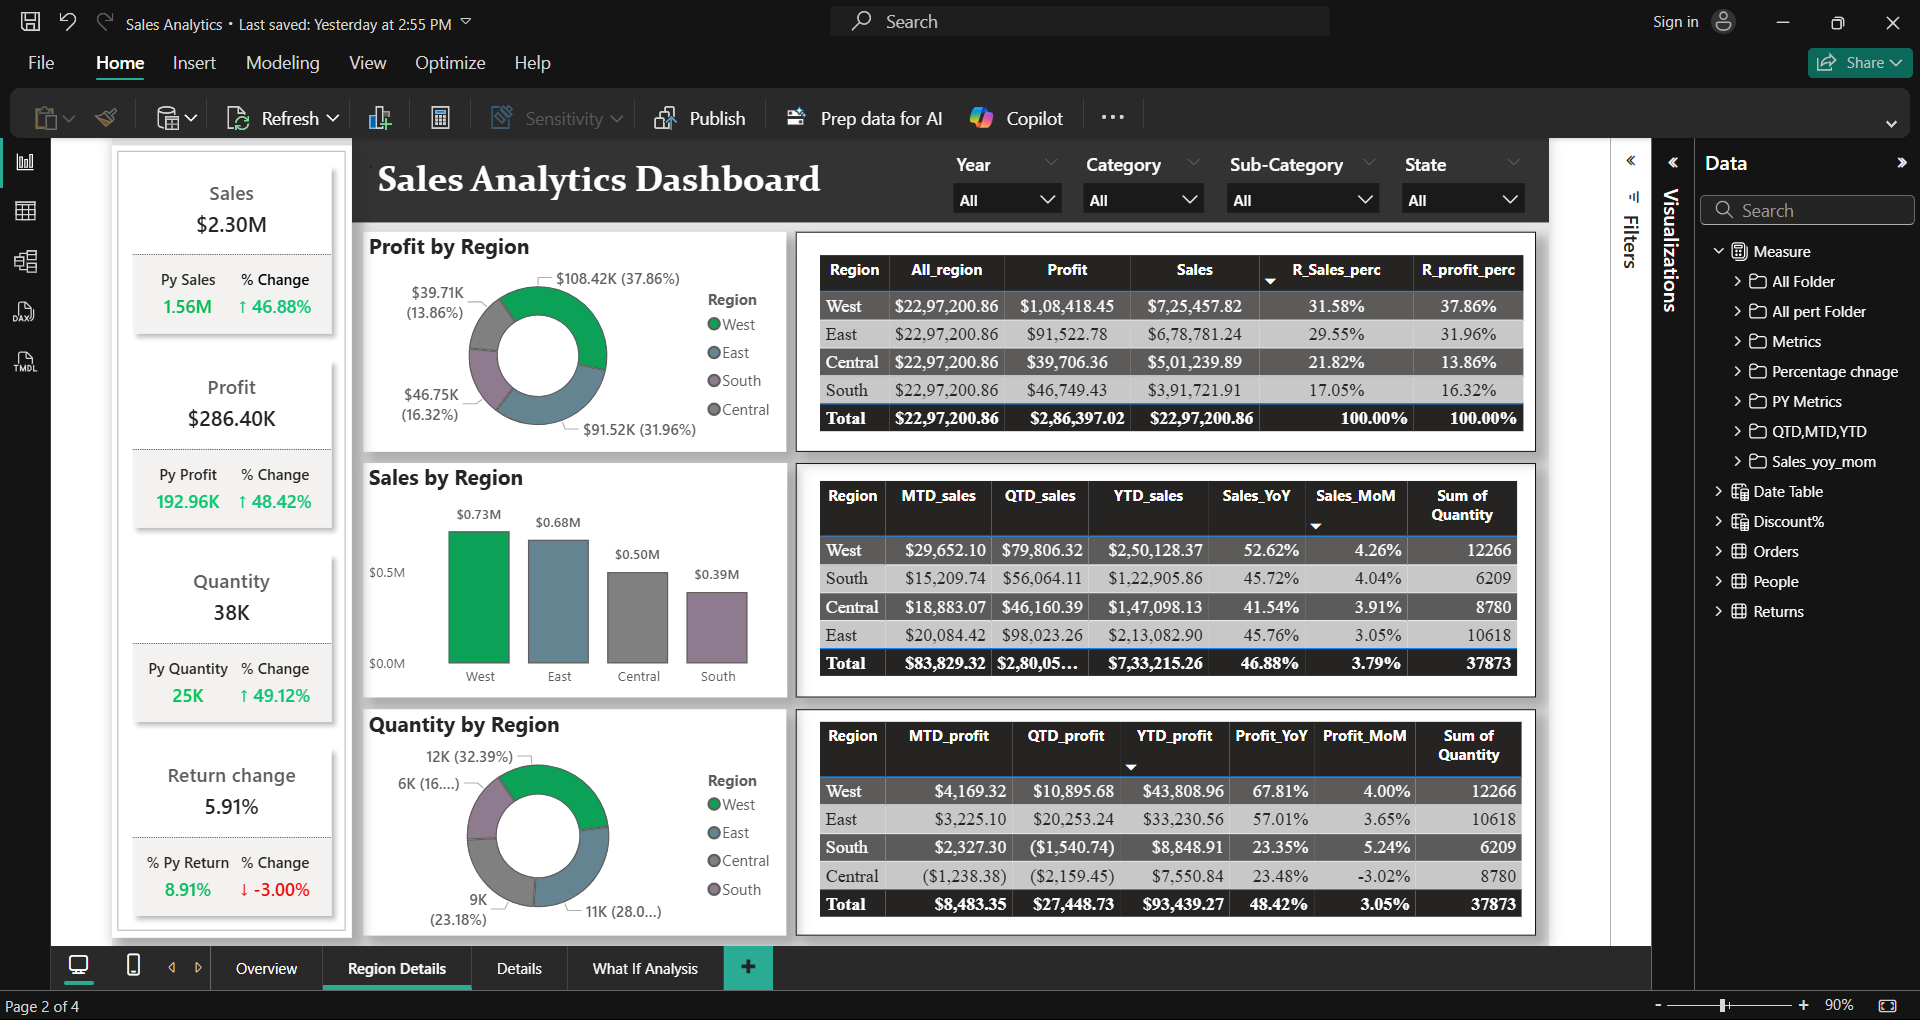

The page's visual inventory and layout, read from the dashboard file:
{"tool":"powerbi","page":{"name":"Region Details","canvas":[1280,720],"ordinal":1},"visuals":[{"type":"textbox","box":[213.5,0,1066.3,74.8],"z":1000},{"type":"donutChart","title":"Profit by Region","fields":{"Category":["People.Region"],"Y":["Measure.Profit"]},"box":[223.3,83.4,376.7,196.3],"z":2000},{"type":"tableEx","title":"Sales Details","fields":{"Values":["People.Region","Measure.mtd","Measure.qtd","Measure.ytd","Measure.yoy_growth","Measure.mom_growth","Sum(Orders.Quantity)"]},"box":[608.6,289.6,658.9,208.6],"z":3000},{"type":"slicer","fields":{"Values":["Orders.State"]},"box":[1138.7,6.1,128.8,60.1],"z":4000},{"type":"slicer","fields":{"Values":["Orders.Sub-Category"]},"box":[982.8,6.1,155.8,60.1],"z":5000},{"type":"slicer","fields":{"Values":["Orders.Category"]},"box":[855.2,6.1,127.6,60.1],"z":6000},{"type":"slicer","fields":{"Values":["Date Table.Year"]},"box":[738.7,6.1,116.6,60.1],"z":7000},{"type":"tableEx","title":"Category Segmentation","fields":{"Values":["Orders.Region","Measure.All_region","Measure.Profit","Measure.Sales","Measure.Region_Sales_perc","Measure.Region_profit_perc"]},"box":[608.6,83.4,658.9,196.3],"z":8000},{"type":"tableEx","title":"Profit Details","fields":{"Values":["People.Region","Measure.MTD_profit","Measure.QTD_profit","Measure.YTD_profit","Measure.Profit_YoY","Measure.Profit_MoM","Sum(Orders.Quantity)"]},"box":[608.6,509.2,658.9,201.2],"z":9000},{"type":"lineStackedColumnComboChart","title":"Sales by Region","fields":{"Category":["People.Region"],"Y":["Measure.Sales"]},"box":[223.3,289.6,377.9,208.6],"z":10000},{"type":"donutChart","title":"Quantity by Region","fields":{"Category":["People.Region"],"Y":["Sum(Orders.Quantity)"]},"box":[223.3,509.2,376.7,201.2],"z":11000},{"type":"cardVisual","fields":{"Data":["Measure.Sales","Measure.Profit","Measure.Quantity","Measure.% Return change"]},"box":[0,6.1,213.5,705.5],"z":11001}]}

Visuals, with their boxes on the page's 1280x720 design canvas (x1, y1, x2, y2). These are canvas units, not pixel positions in the 1920x1020 screenshot, which may show the page scaled, cropped or inside an application window:
textbox: left=214, top=0, right=1280, bottom=75
"Profit by Region" donutChart: left=223, top=83, right=600, bottom=280
"Sales Details" tableEx: left=609, top=290, right=1268, bottom=498
slicer - Orders.State: left=1139, top=6, right=1268, bottom=66
slicer - Orders.Sub-Category: left=983, top=6, right=1139, bottom=66
slicer - Orders.Category: left=855, top=6, right=983, bottom=66
slicer - Date Table.Year: left=739, top=6, right=855, bottom=66
"Category Segmentation" tableEx: left=609, top=83, right=1268, bottom=280
"Profit Details" tableEx: left=609, top=509, right=1268, bottom=710
"Sales by Region" lineStackedColumnComboChart: left=223, top=290, right=601, bottom=498
"Quantity by Region" donutChart: left=223, top=509, right=600, bottom=710
cardVisual - Measure.Sales x Measure.Profit: left=0, top=6, right=214, bottom=712
